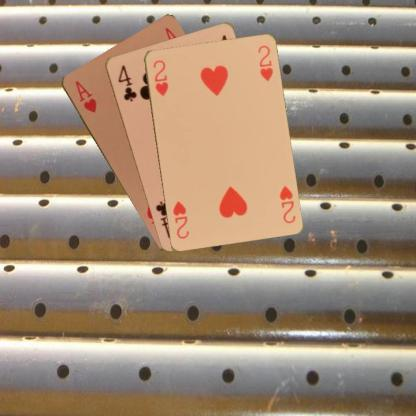2h: (276, 182, 297, 224), (151, 57, 170, 98)
4c: (115, 62, 138, 103)
Ah: (72, 77, 98, 114)
